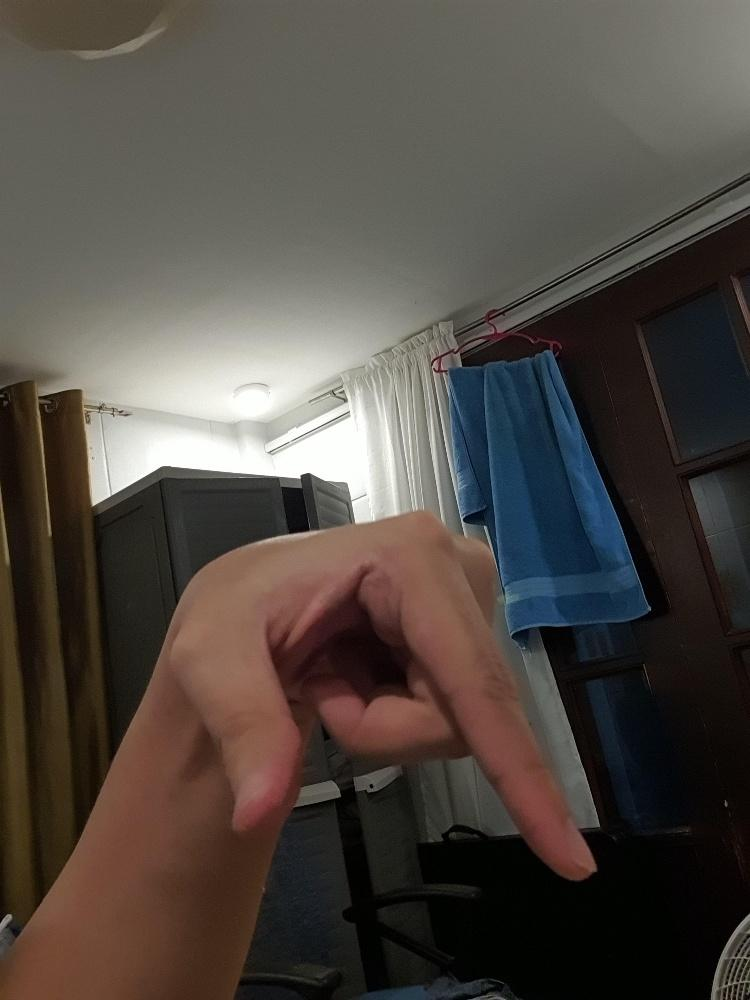q: (164, 502, 598, 885)
